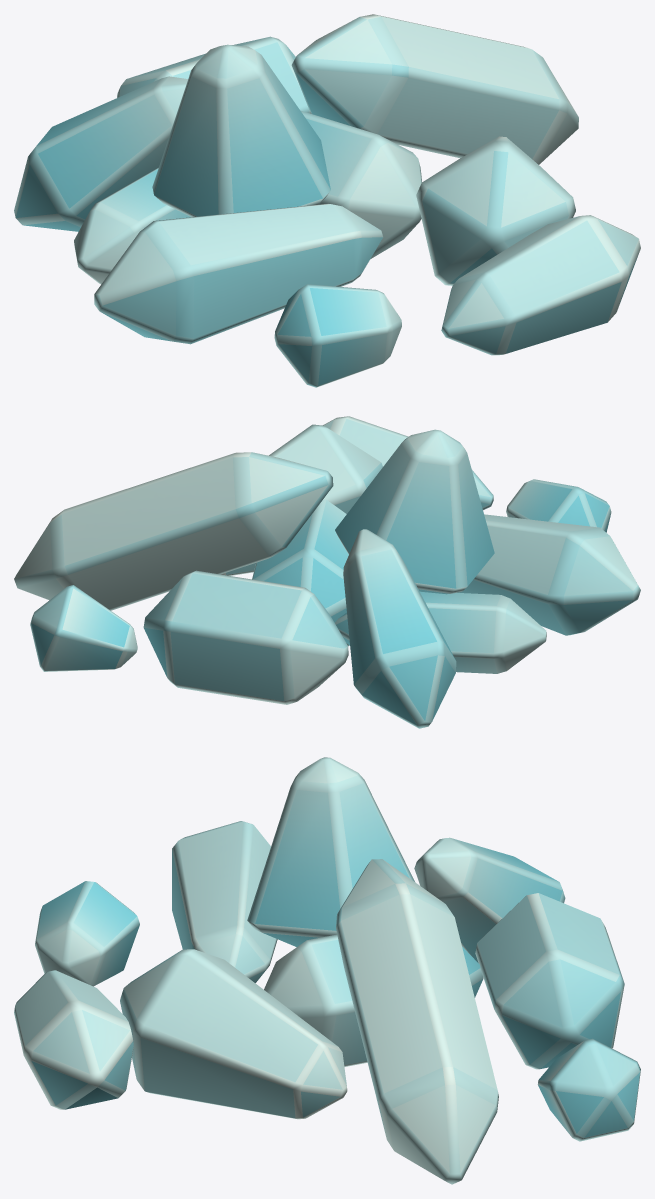
File: christal_diamond_pile.fbx
The picture shows the model from 3 angles, top to bottom: view 1: azimuth 30°, elevation 25°; view 2: azimuth 150°, elevation 25°; view 3: azimuth 270°, elevation 25°; orthographic projection. The views are drawn at different scales.
Parts seen in each view (by area): view 1: christal_diamond_pile; view 2: christal_diamond_pile; view 3: christal_diamond_pile.
Part boxes in pixels (x1,y1,x2,y2): christal_diamond_pile: (14,14,640,387); christal_diamond_pile: (14,416,640,728); christal_diamond_pile: (14,757,640,1184).
Size of the model in its own units: 182 by 69.99 by 169.
Materials: 1 (1 with a texture image).
